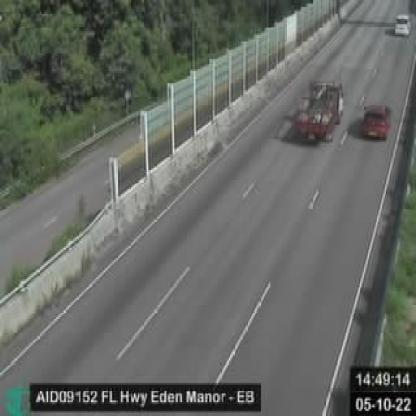Car: (360, 101, 389, 140), (394, 11, 411, 38)
Truck: (291, 76, 345, 140)
